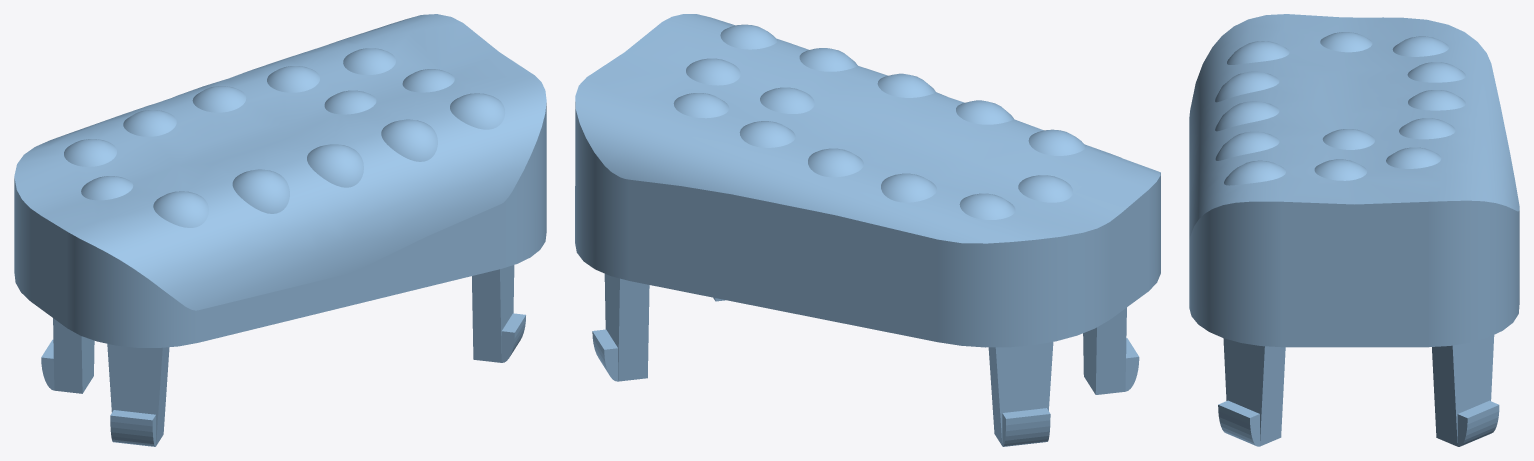
The picture shows the model from 3 angles, left to right: view 1: azimuth 30°, elevation 25°; view 2: azimuth 150°, elevation 25°; view 3: azimuth 270°, elevation 25°; orthographic projection. The views are drawn at different scales.
Parts seen in each view (by area): view 1: =>[0:1:1:2], =>[0:1:1:3], =>[0:1:1:4], =>[0:1:1:5]; view 2: =>[0:1:1:2], =>[0:1:1:5], =>[0:1:1:3]; view 3: =>[0:1:1:2], =>[0:1:1:4].
Boxes of the visible parts, x1,y1,x2,y2 form: =>[0:1:1:2]: (14,14,546,347); =>[0:1:1:3]: (107,344,169,446); =>[0:1:1:4]: (472,265,525,362); =>[0:1:1:5]: (41,318,94,393); =>[0:1:1:2]: (575,14,1160,381); =>[0:1:1:5]: (988,342,1053,446); =>[0:1:1:3]: (1083,307,1139,394); =>[0:1:1:2]: (1189,14,1519,446); =>[0:1:1:4]: (1218,338,1285,446).
Size of the model in its own units: 38.92 by 20.53 by 23.28.
